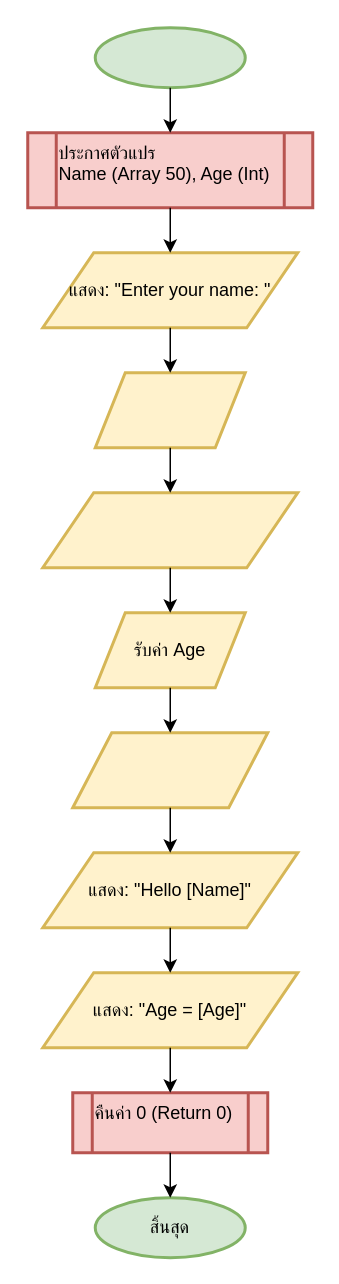
Some shapes in this 339 by 1284 pixel diagram are drawn without their labels. Here are the shapes that lost their labels. From the top down, the box of each, then its label:
(93, 26, 246, 88): เริ่มต้น
(93, 370, 246, 448): รับค่า Name
(40, 490, 298, 568): แสดง: "Enter your age: "
(70, 730, 268, 808): แสดง: "- - - - - -"
